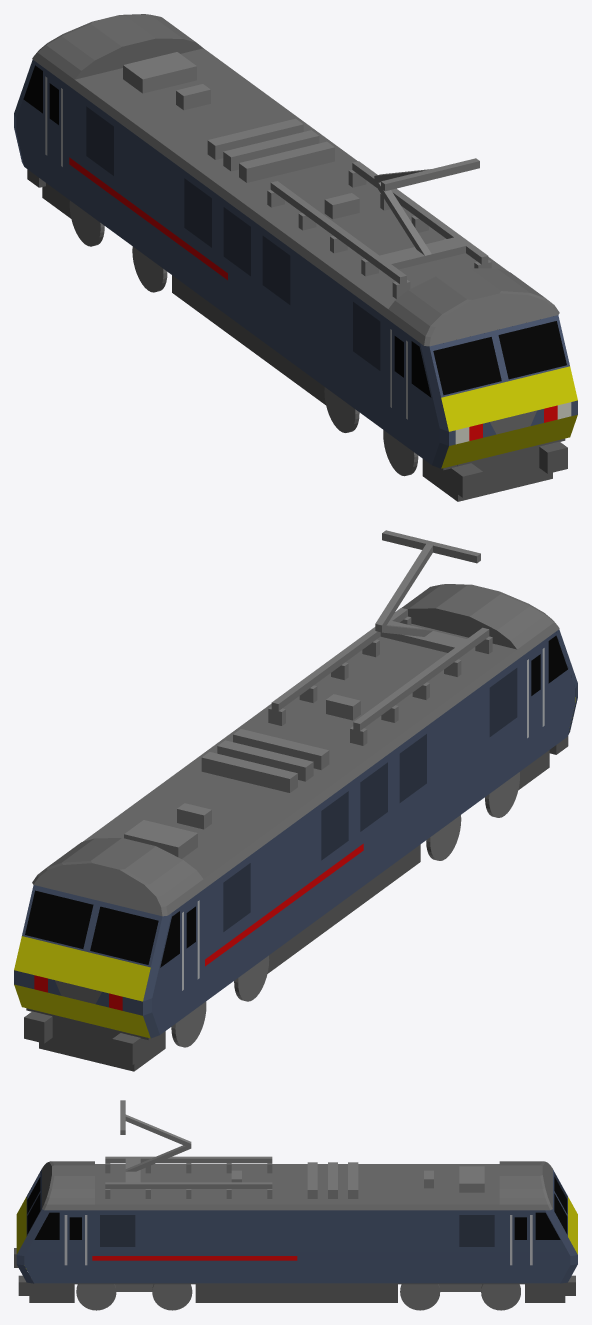
File: br-cl90-gner.dae
The picture shows the model from 3 angles, top to bottom: view 1: azimuth 30°, elevation 25°; view 2: azimuth 150°, elevation 25°; view 3: azimuth 270°, elevation 25°; orthographic projection. The views are drawn at different scales.
Visible parts, largest first — view 1: Plane_021, Plane_030, Plane_001, Plane_017, Plane_052, Plane_014, Plane_019, Plane_020, Cube, Cube_033, Plane_015, Cube_019 (+25 smaller); view 2: Plane_021, Plane_030, Plane_001, Plane_017, Plane_053, Plane_031, Plane_019, Plane_020, Cube_001, Cube_033, Plane_034, Cube_027 (+23 smaller); view 3: Plane, Plane_030, Plane_008, Plane_001, Cube_033, Plane_007, Plane_003, Cube_007, Cube_008, Plane_023, Plane_022, Plane_002 (+25 smaller).
Part boxes in pixels (x1,y1,x2,y2): Plane_021: (18, 62, 437, 419); Plane_030: (75, 48, 508, 308); Plane_001: (32, 14, 559, 346); Plane_017: (16, 126, 439, 464); Plane_052: (433, 321, 566, 395); Plane_014: (441, 366, 577, 431); Plane_019: (16, 119, 439, 434); Plane_020: (16, 113, 439, 427); Cube: (422, 441, 552, 501); Cube_033: (172, 275, 325, 404); Plane_015: (441, 414, 577, 468); Cube_019: (123, 52, 196, 93); Plane_021: (154, 632, 573, 989); Plane_030: (83, 624, 516, 878); Plane_001: (32, 584, 559, 916); Plane_017: (152, 696, 575, 1034); Plane_053: (25, 890, 158, 964); Plane_031: (14, 936, 150, 1001); Plane_019: (152, 689, 575, 1004); Plane_020: (152, 683, 575, 997); Cube_001: (39, 1017, 165, 1071); Cube_033: (267, 844, 420, 973); Plane_034: (14, 984, 150, 1038); Cube_027: (201, 752, 297, 792); Plane: (27, 1210, 567, 1251); Plane_030: (95, 1164, 499, 1204); Plane_008: (24, 1260, 570, 1283); Plane_001: (42, 1161, 552, 1210); Cube_033: (195, 1284, 397, 1302); Plane_007: (24, 1256, 570, 1260); Plane_003: (24, 1251, 569, 1255); Cube_007: (105, 1182, 272, 1188); Cube_008: (105, 1156, 272, 1163); Plane_023: (459, 1215, 494, 1246); Plane_022: (100, 1215, 134, 1246); Plane_002: (29, 1283, 565, 1284).
Bounding box in the file's own units: 2.01 × 11.15 × 3.87.
